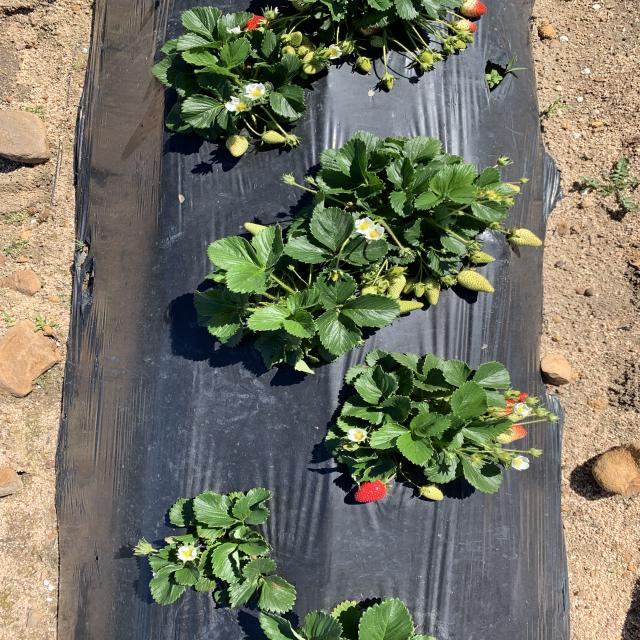unripe: (482, 391, 533, 417), (349, 476, 391, 506), (234, 12, 276, 36), (461, 0, 487, 18)
